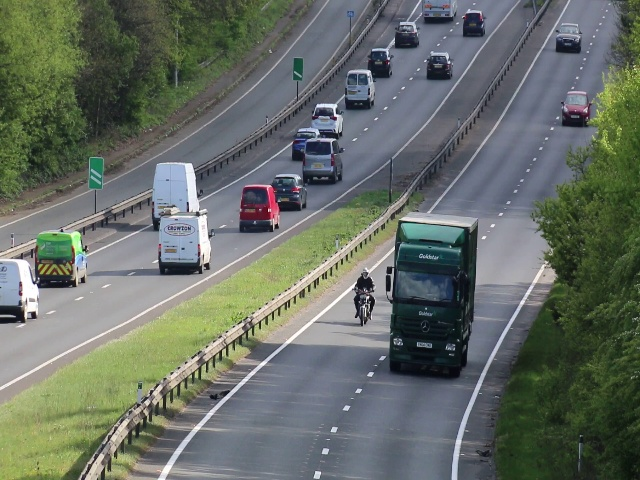car: (393, 242, 467, 380), (153, 214, 216, 275), (33, 228, 90, 287), (148, 167, 197, 224), (1, 256, 39, 322), (239, 187, 279, 232), (305, 138, 340, 184), (311, 102, 346, 137), (343, 69, 375, 107), (276, 173, 307, 209), (561, 90, 591, 126), (290, 128, 316, 161), (425, 51, 453, 81), (556, 22, 582, 54), (393, 20, 419, 49), (367, 50, 393, 77), (462, 10, 486, 38)
